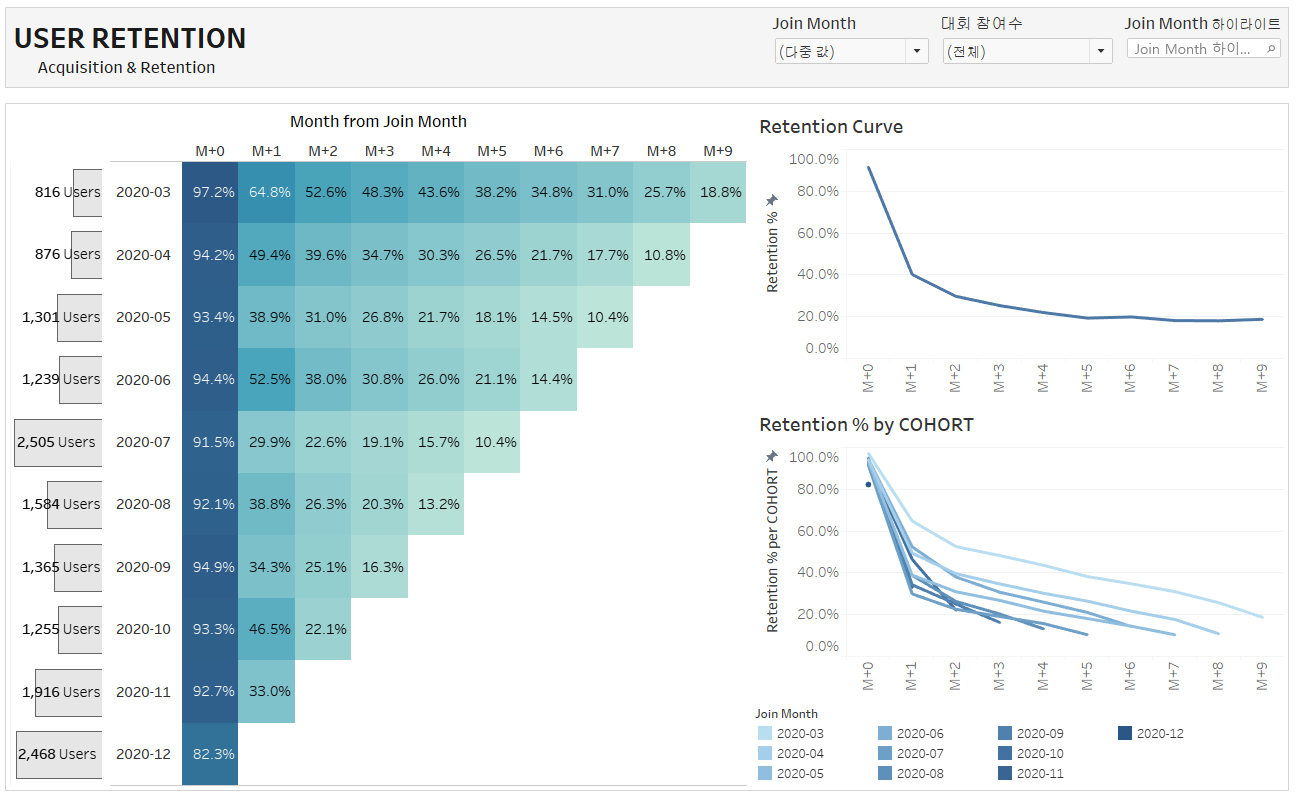

This screenshot's page, from the dashboard's own definition file:
{"tool":"tableau","page":{"name":"대시보드 1","canvas":[1300,800],"ordinal":0},"visuals":[{"type":"text","box":[9,9,762,79]},{"type":"filter","title":"Retention Rate (Rolling)","param":"[federated.1o8mmy71lb3yns189joni1n82h9h].[none:join_month:nk]","box":[771,9,168,79]},{"type":"filter","title":"Retention Rate (Rolling)","param":"[federated.1o8mmy71lb3yns189joni1n82h9h].[none:entered_competition_cnt:ok]","box":[939,9,184,79]},{"type":"highlighter","title":"Retention Rate (Rolling)","param":"[federated.1o8mmy71lb3yns189joni1n82h9h].[none:join_month:nk]","box":[1123,9,168,79]},{"type":"blank","box":[8,89,1284,15]},{"type":"text","box":[9,105,744.9,32.7]},{"type":"worksheet","title":"Retention Curve","mark":"Line","rows":["Calculation_396316821014298624"],"cols":["month_diff"],"box":[753.9,105,537.1,298.5]},{"type":"blank","box":[9,137.7,100,20]},{"type":"worksheet","title":"Retention Rate (Rolling)","mark":"Square","rows":["join_month"],"cols":["month_diff"],"box":[109,137.7,644.9,653.3]},{"type":"worksheet","title":"Count by Month","mark":"Automatic","rows":["join_month"],"cols":["user_id"],"box":[9,157.7,100,633.3]},{"type":"worksheet","title":"Retention % by COHORT","mark":"Line","rows":["Calculation_806988811728556032"],"cols":["month_diff"],"box":[753.9,403.5,537.1,298.5]},{"type":"legend","title":"Retention % by COHORT","param":"[federated.1o8mmy71lb3yns189joni1n82h9h].[none:join_month:nk]","box":[753.9,702,537.1,89]}]}

Visuals, with their boxes in screenshot pixels (x1, y1, x2, y2), scaled from the page's 1300x800 canvas onto the 1298x799 screenshot:
text: {"left": 9, "top": 9, "right": 770, "bottom": 88}
"Retention Rate (Rolling)" filter: {"left": 770, "top": 9, "right": 938, "bottom": 88}
"Retention Rate (Rolling)" filter: {"left": 938, "top": 9, "right": 1121, "bottom": 88}
"Retention Rate (Rolling)" highlighter: {"left": 1121, "top": 9, "right": 1289, "bottom": 88}
blank: {"left": 8, "top": 89, "right": 1290, "bottom": 104}
text: {"left": 9, "top": 105, "right": 753, "bottom": 138}
"Retention Curve" worksheet (Line marks): {"left": 753, "top": 105, "right": 1289, "bottom": 403}
blank: {"left": 9, "top": 138, "right": 109, "bottom": 158}
"Retention Rate (Rolling)" worksheet (Square marks): {"left": 109, "top": 138, "right": 753, "bottom": 790}
"Count by Month" worksheet: {"left": 9, "top": 158, "right": 109, "bottom": 790}
"Retention % by COHORT" worksheet (Line marks): {"left": 753, "top": 403, "right": 1289, "bottom": 701}
"Retention % by COHORT" legend: {"left": 753, "top": 701, "right": 1289, "bottom": 790}
